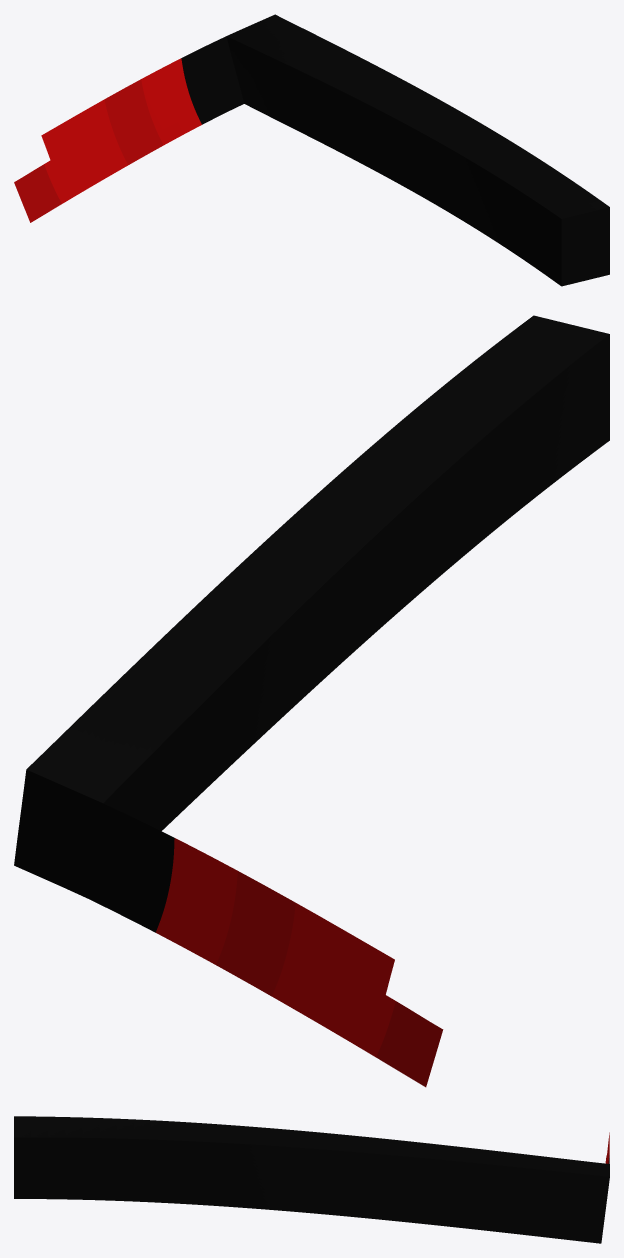
Rendered from 04_FEM_03_Verformung.gltf.
3 views of the same model, one above another, from view 1: azimuth 30°, elevation 25°; view 2: azimuth 150°, elevation 25°; view 3: azimuth 270°, elevation 25° (orthographic). The views are drawn at different scales.
Parts seen in each view (by area): view 1: Model; view 2: Model; view 3: Model.
Boxes of the visible parts, bbox=[...] form: Model: bbox=[14, 14, 609, 286]; Model: bbox=[14, 315, 609, 1087]; Model: bbox=[14, 1116, 609, 1243].
Bounding box in the file's own units: 341 × 226 × 705.
